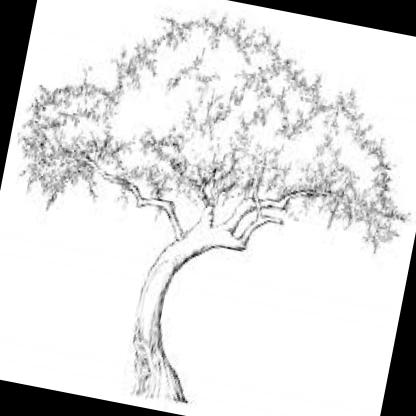branch_cut: (77, 153, 318, 265)
crown_dizzy: (10, 0, 416, 279)
trunk_reflex: (124, 244, 206, 383)
